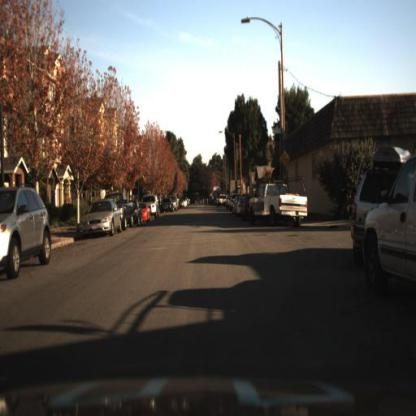car: (362, 150, 416, 319), (351, 147, 416, 270), (1, 186, 52, 282), (248, 178, 310, 227), (80, 197, 124, 239), (111, 191, 136, 230), (137, 200, 153, 225)
